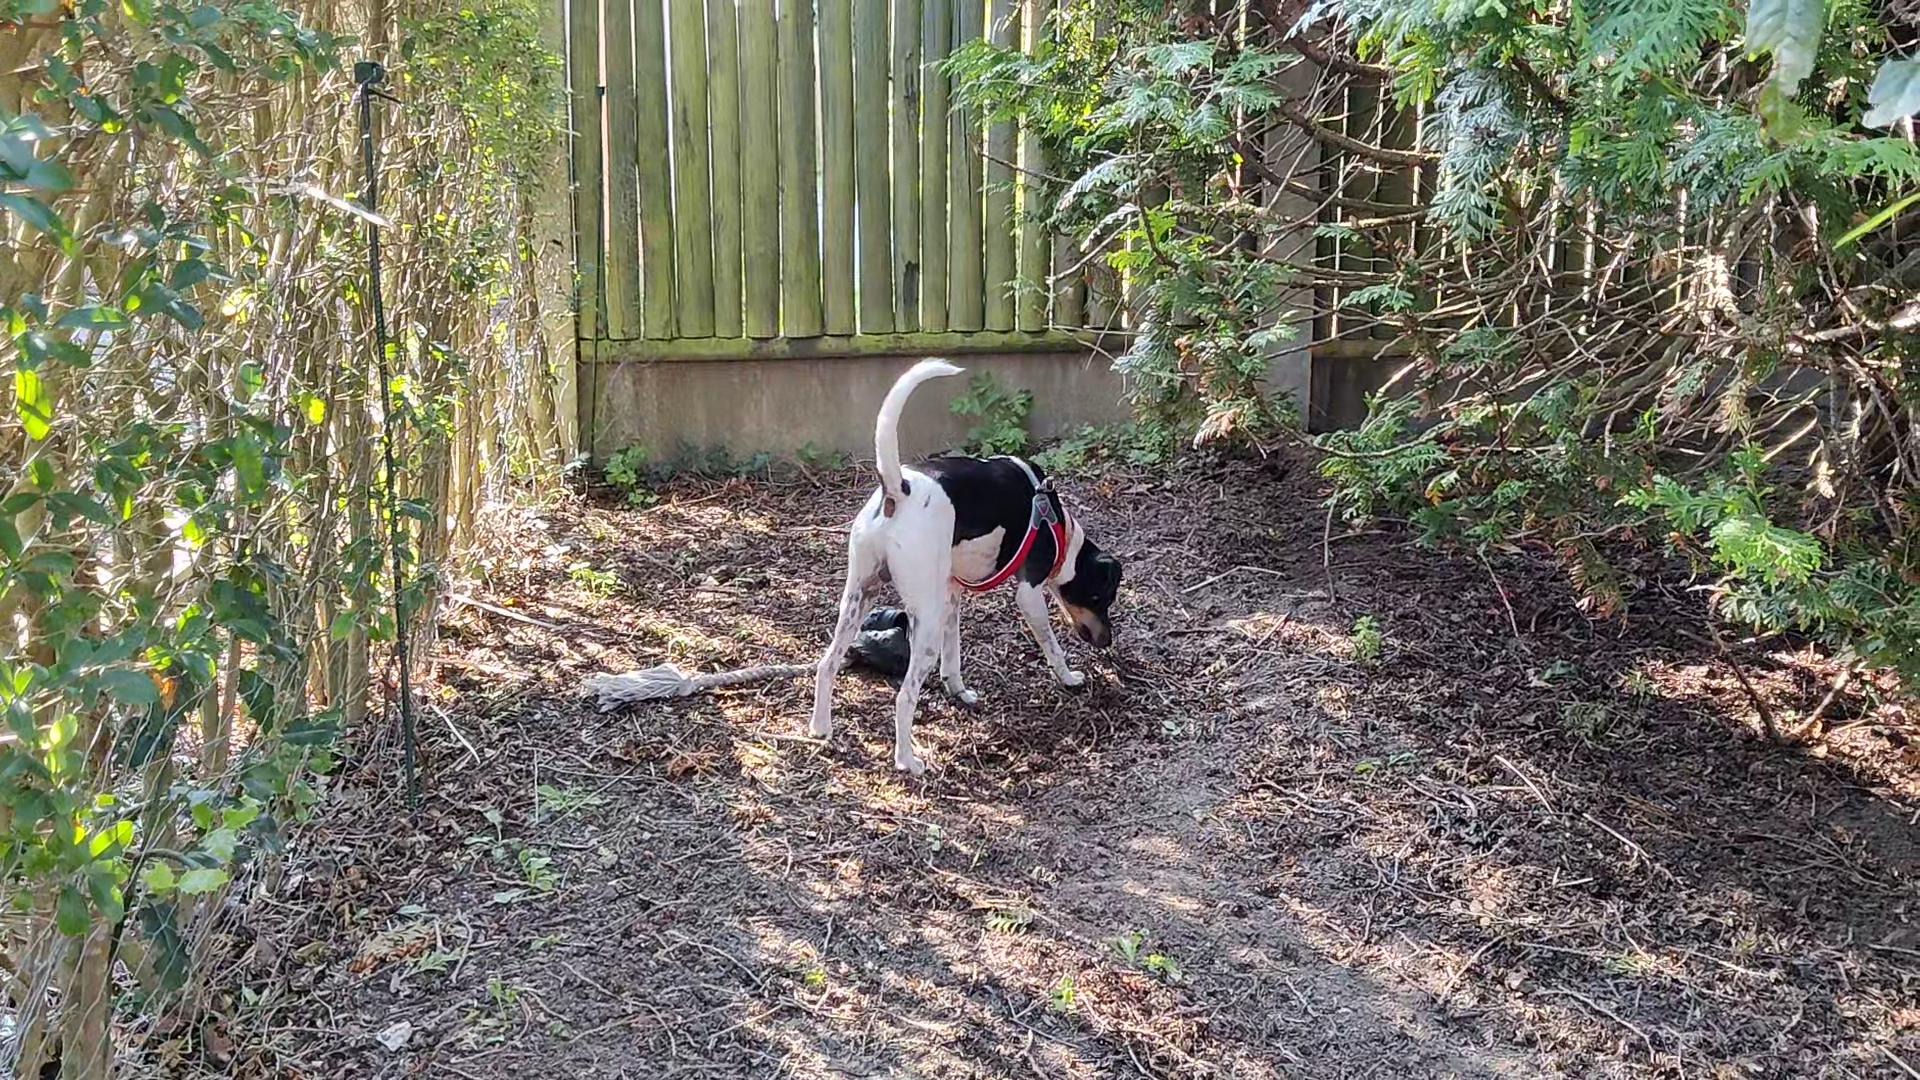Dog: (789, 334, 1137, 785)
